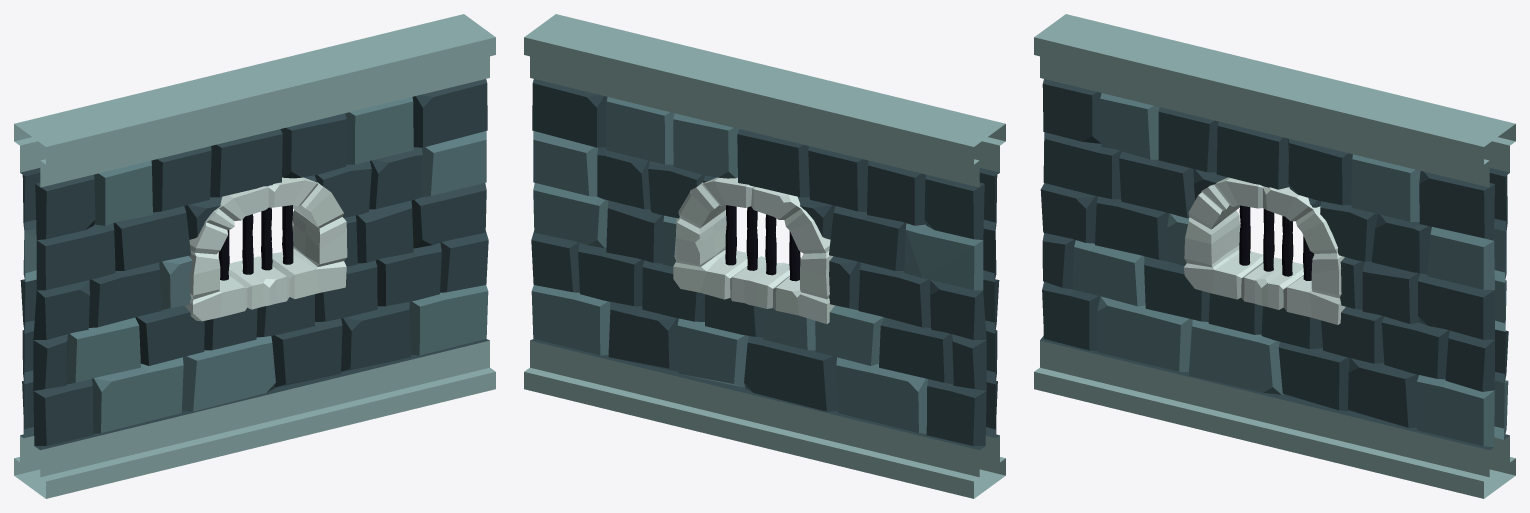
File: wall 2.fbx
3 renders of one model, left to right at view 1: azimuth 30°, elevation 25°; view 2: azimuth 150°, elevation 25°; view 3: azimuth 330°, elevation 25°, orthographic.
Visible parts, largest first — view 1: wall 2; view 2: wall 2; view 3: wall 2.
Part boxes in pixels (x1,y1,x2,y2): wall 2: (14,14,495,498); wall 2: (524,14,1005,498); wall 2: (1034,14,1515,498).
Size of the model in its own units: 401 by 299 by 48.96.
